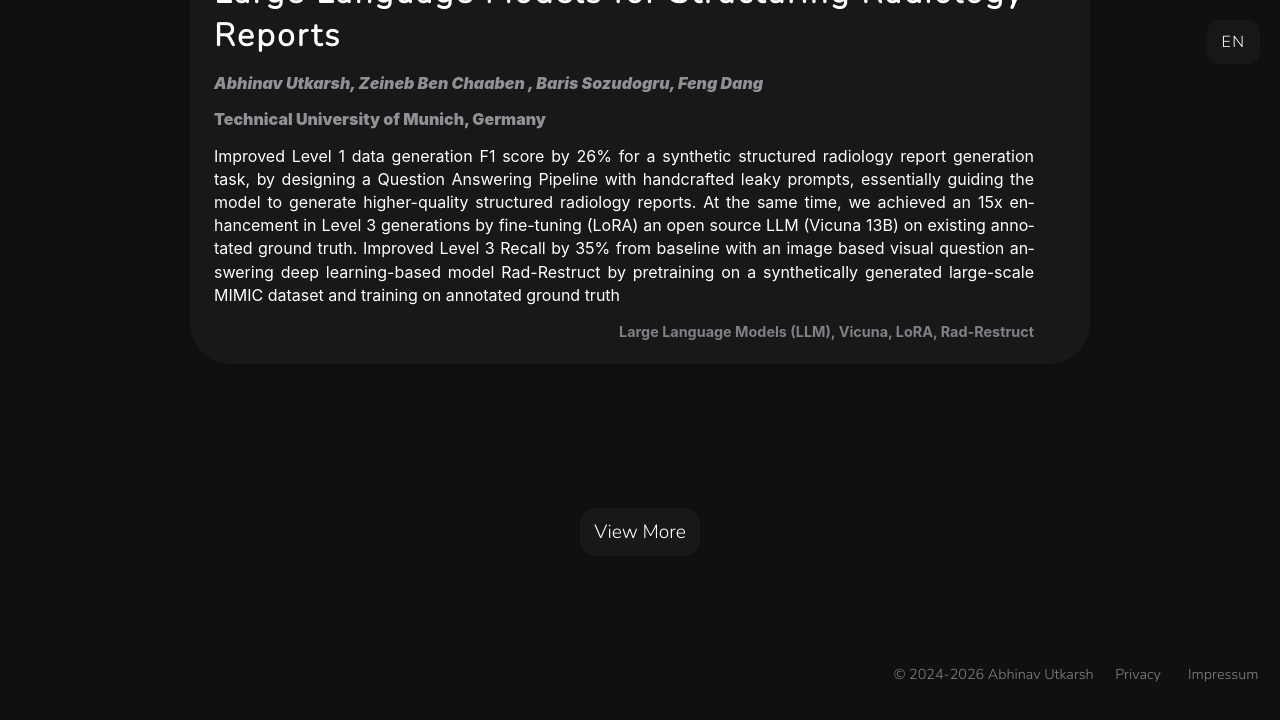
Test: privacy page states what the site does and does not do
The image size is (1280, 720).
(page scrolled)
What coordinates should you click on to do the following:
click the link "Privacy"
I would click on:
 (1138, 674)
Its box is [1115,664,1161,684].
Wait 400 ms
(page scrolled)
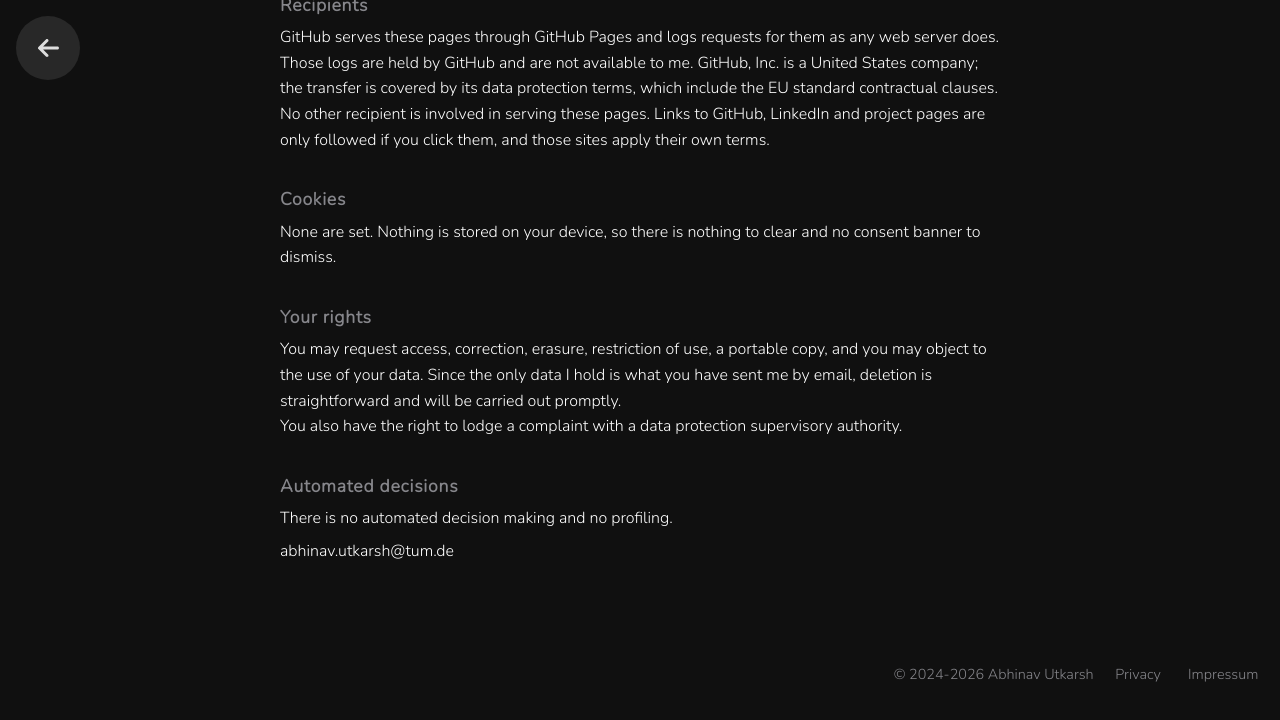
Expected: the text "GitHub Pages" is shown, [280,26,999,99]
